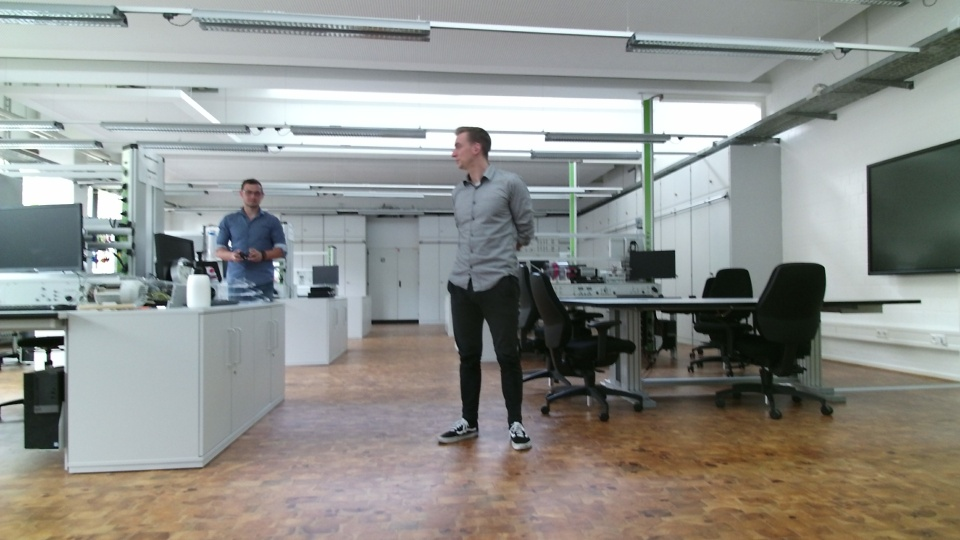Person: (435, 120, 538, 453), (215, 173, 289, 302)
